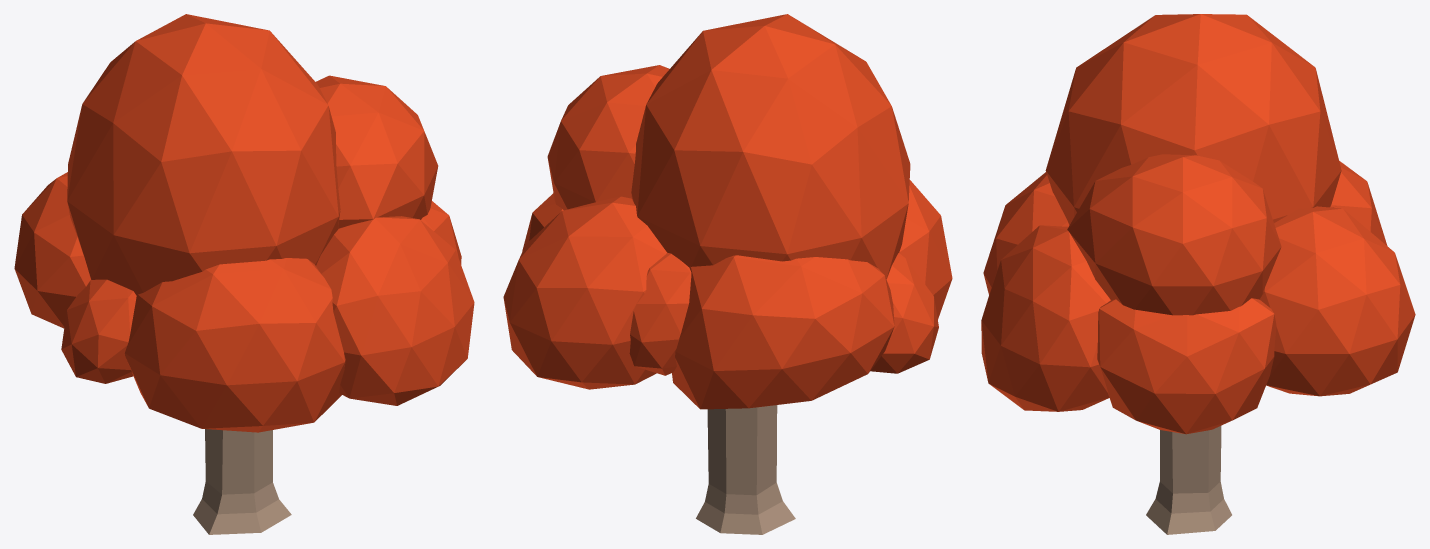
The model's file is maple_tree.glb.
3 views of the same model, side by side, from view 1: azimuth 30°, elevation 25°; view 2: azimuth 150°, elevation 25°; view 3: azimuth 270°, elevation 25° (orthographic). The views are drawn at different scales.
Parts seen in each view (by area): view 1: Maple Tree; view 2: Maple Tree; view 3: Maple Tree.
Part boxes in pixels (x1,y1,x2,y2): Maple Tree: [14, 14, 474, 534]; Maple Tree: [503, 14, 952, 534]; Maple Tree: [981, 14, 1415, 534].
Size of the model in its own units: 1.7 by 2.1 by 1.69.
